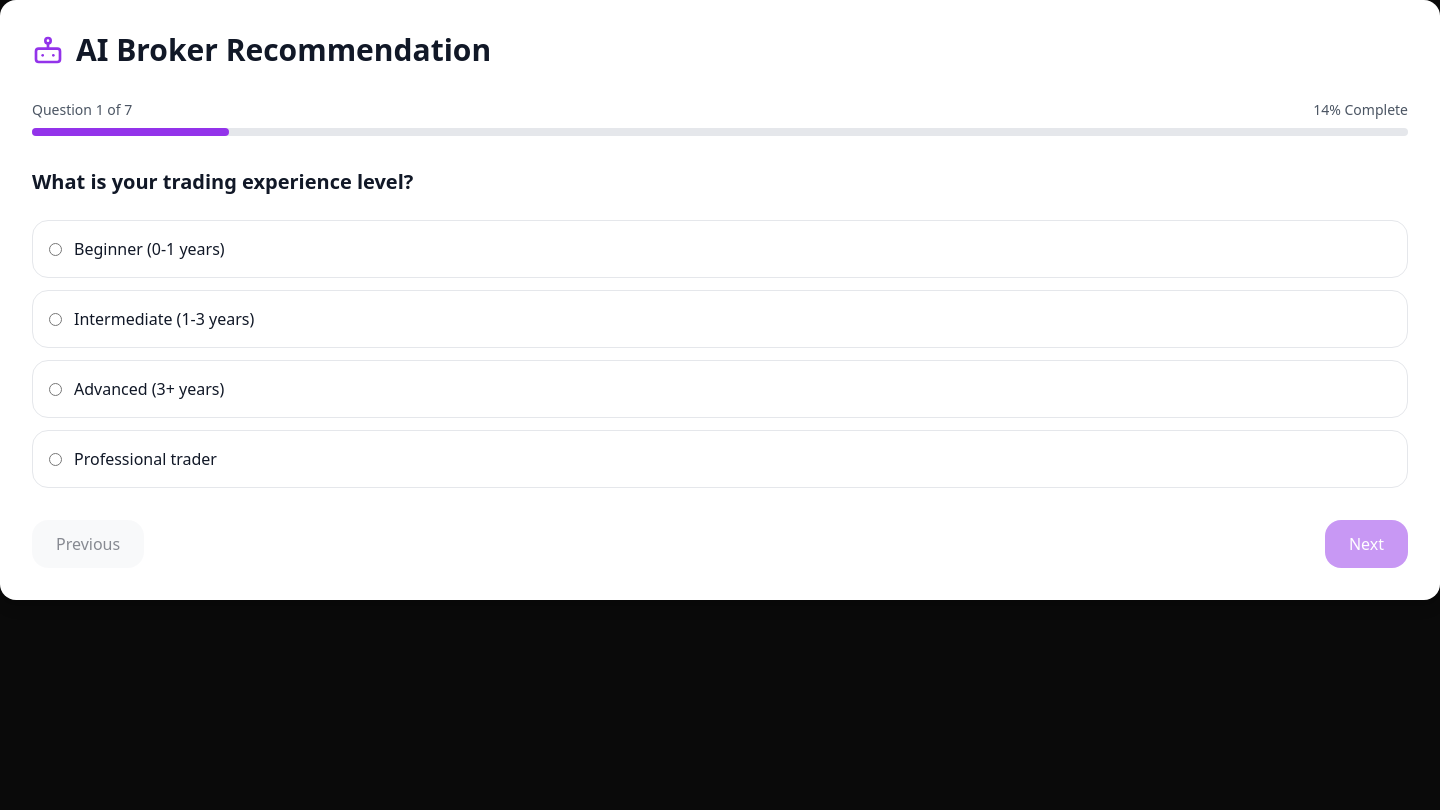
Test: AIAssistantComponent › Question Navigation › Next button becomes enabled after selecting an answer
The image size is (1440, 810).
Click the radio button labelled "Beginner (0-1 years)" at (56, 249), box 49,242 -> 62,256
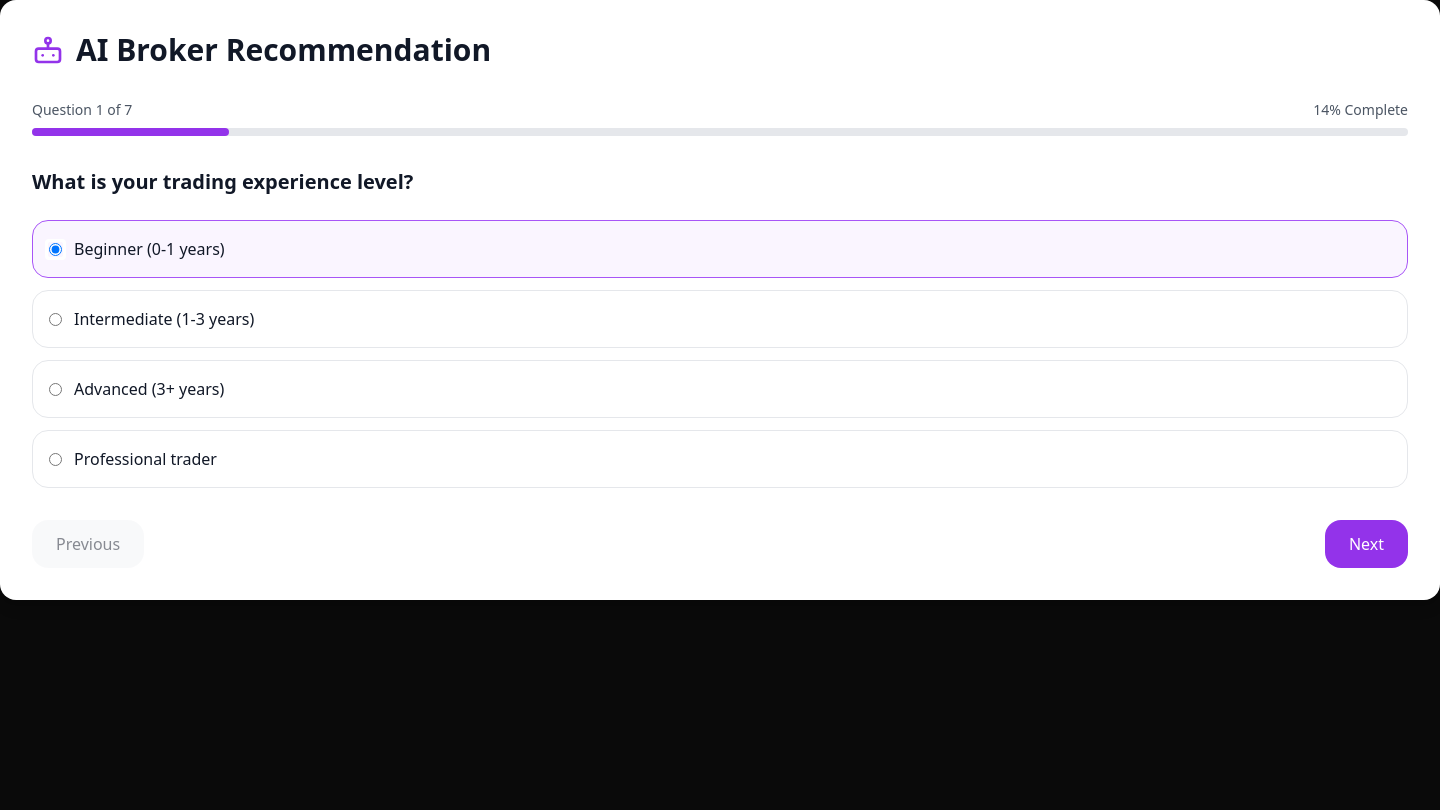
Check: the button "Next" is enabled, box 1325,520 -> 1408,568
